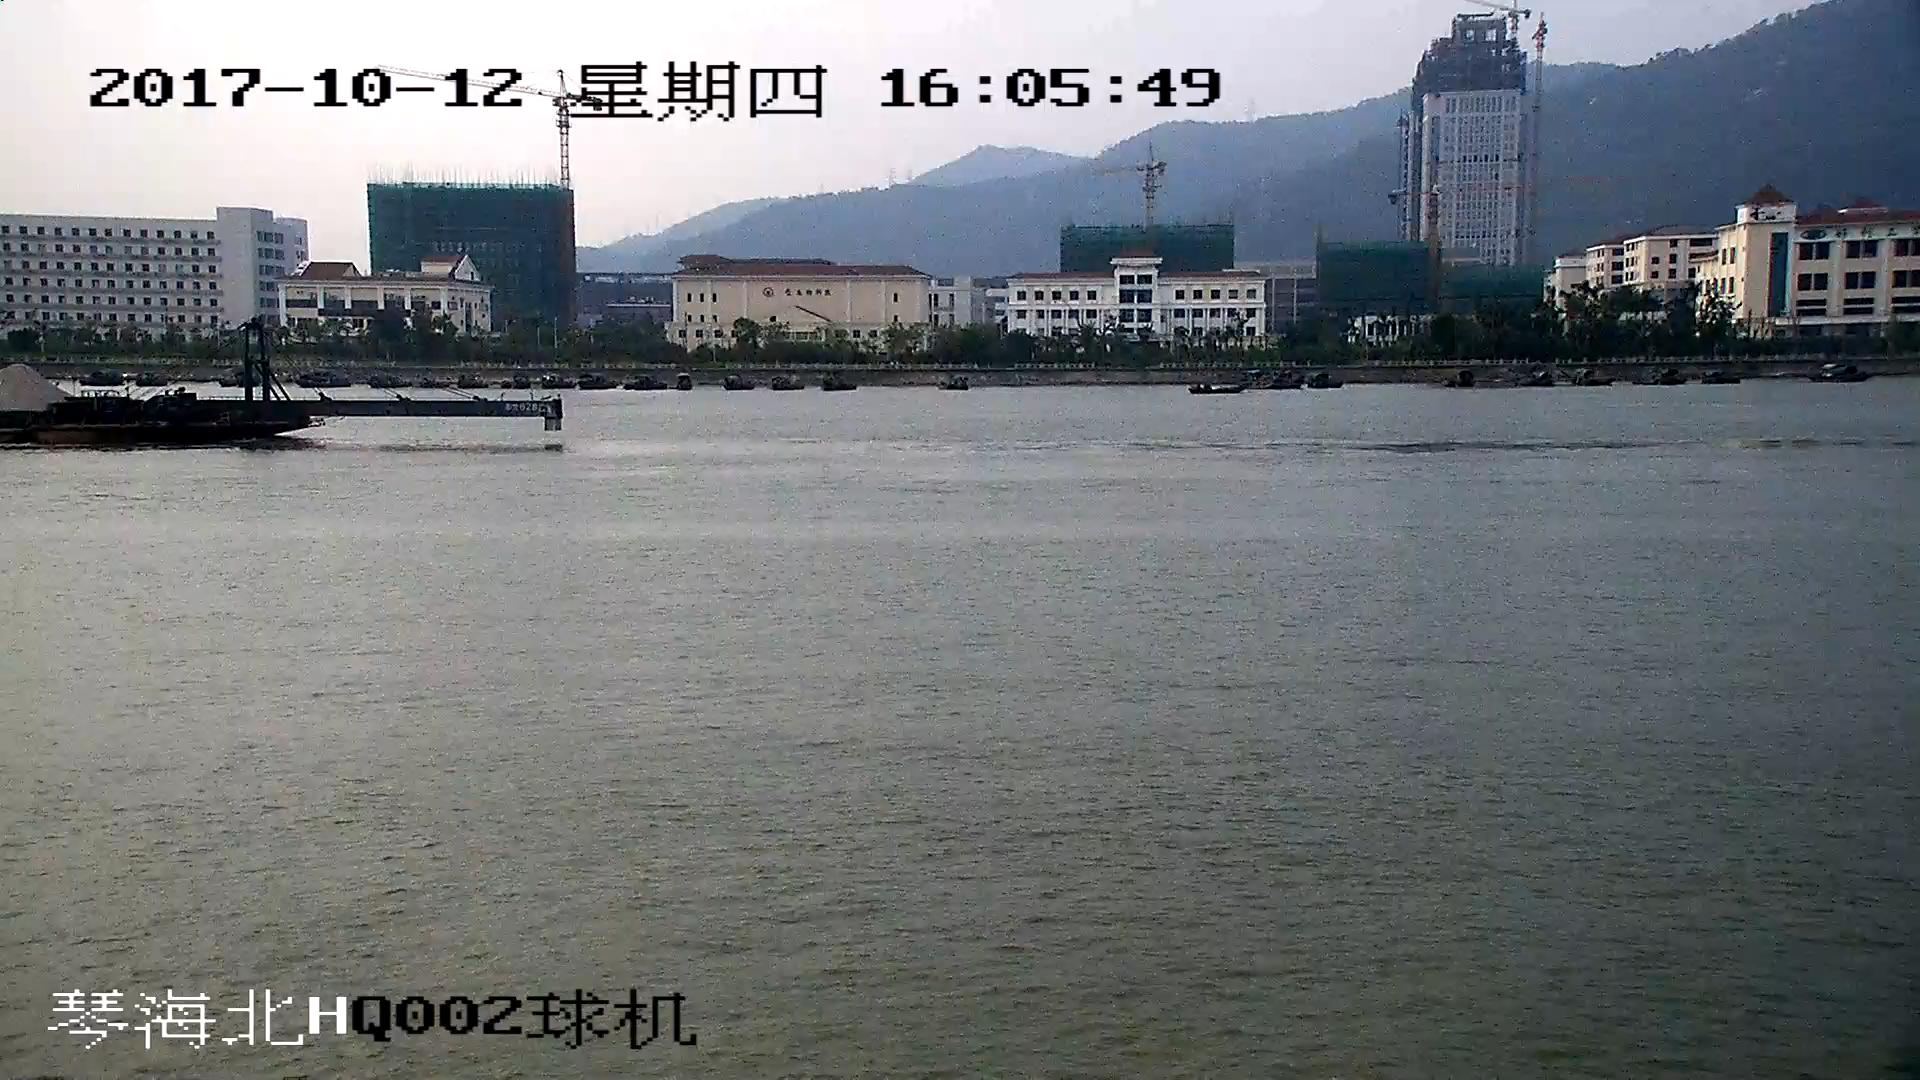ore carrier: (1, 317, 560, 448)
